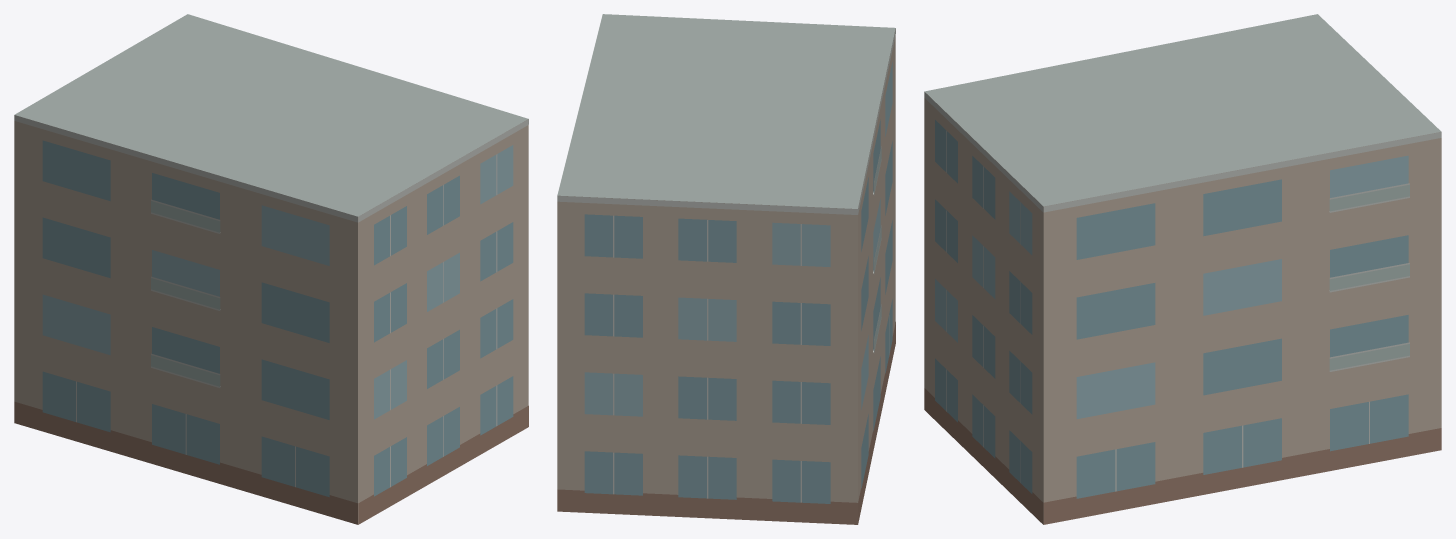
The model's file is survey-upis-32737361.glb.
3 renders of one model, left to right at view 1: azimuth 30°, elevation 25°; view 2: azimuth 150°, elevation 25°; view 3: azimuth 270°, elevation 25°, orthographic. The views are drawn at different scales.
Visible parts, largest first — view 1: survey-upis-32737361.tmp; view 2: survey-upis-32737361.tmp; view 3: survey-upis-32737361.tmp.
Boxes of the visible parts, x1,y1,x2,y2 form: survey-upis-32737361.tmp: [14, 14, 528, 524]; survey-upis-32737361.tmp: [557, 14, 895, 524]; survey-upis-32737361.tmp: [924, 14, 1441, 524].
Size of the model in its own units: 16.47 by 12.7 by 18.71.
